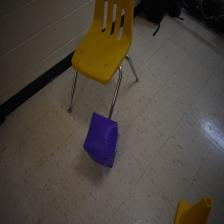cone: (174, 195, 213, 224)
cube: (83, 112, 120, 169)
